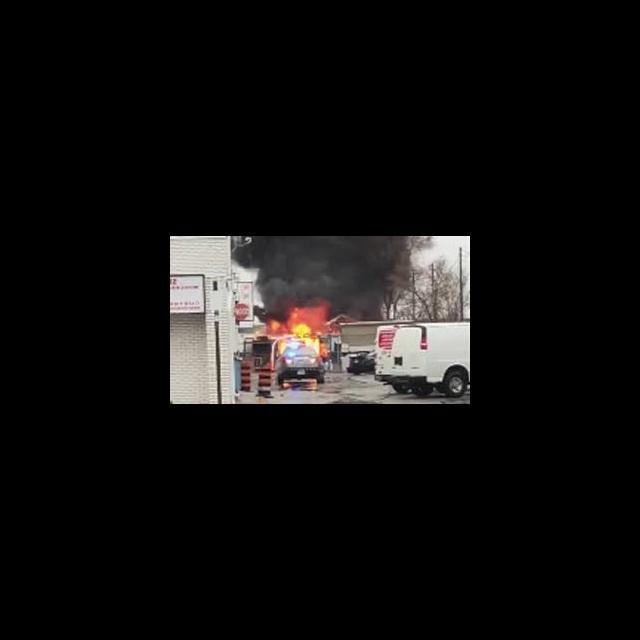Fire: (272, 305, 329, 335)
Smoke: (256, 238, 415, 302)
